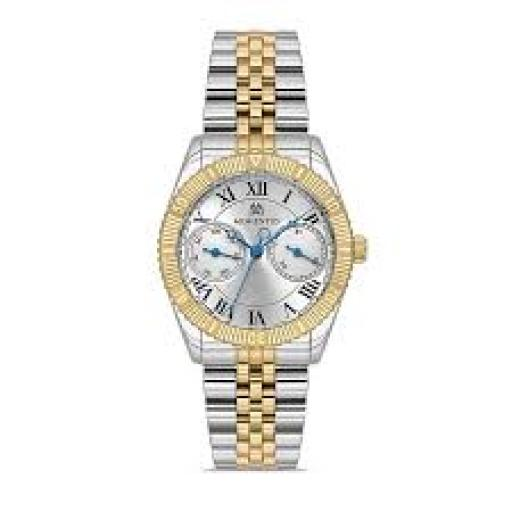KolSaati: (136, 16, 402, 488)
